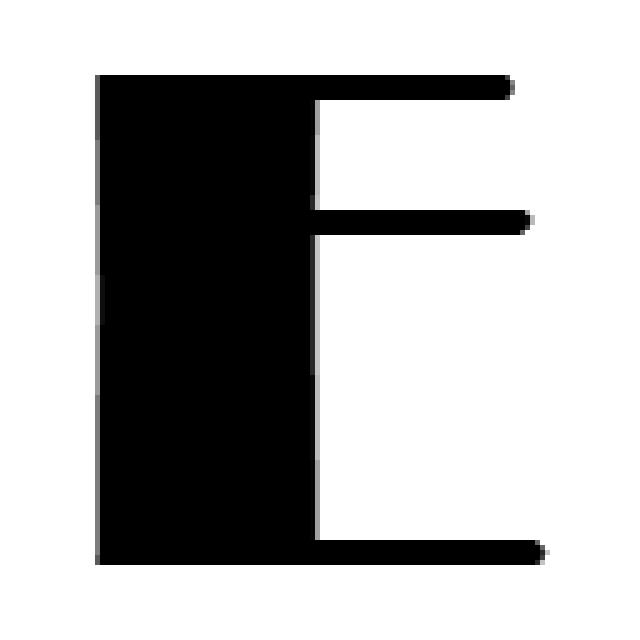E: (90, 65, 545, 565)
